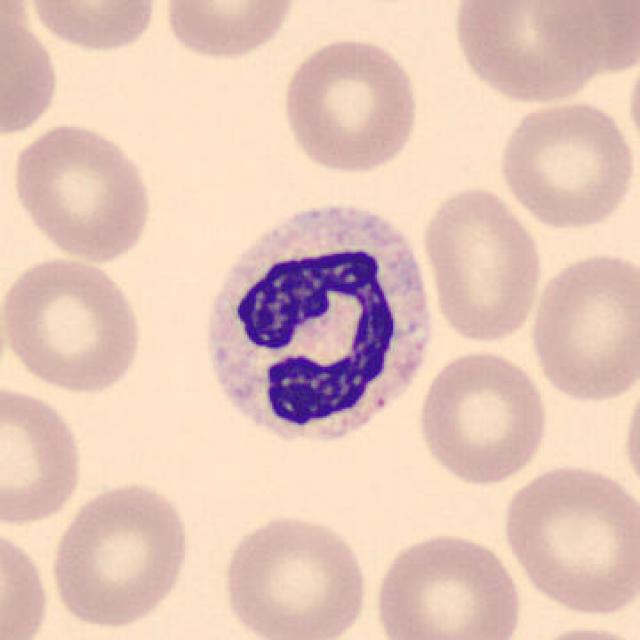Neutrophil: (192, 190, 441, 462)
RBC: (46, 478, 194, 631), (498, 458, 638, 619), (7, 120, 157, 264), (0, 252, 148, 397), (277, 34, 423, 176), (420, 182, 546, 346), (218, 509, 373, 640), (414, 346, 553, 488), (494, 97, 636, 231), (526, 247, 638, 405), (446, 0, 612, 106), (370, 529, 526, 640), (0, 379, 87, 529), (158, 0, 300, 63), (0, 4, 62, 141), (526, 0, 638, 74), (23, 0, 162, 55), (0, 522, 53, 640), (618, 365, 640, 506), (519, 622, 637, 640), (626, 42, 640, 168)
